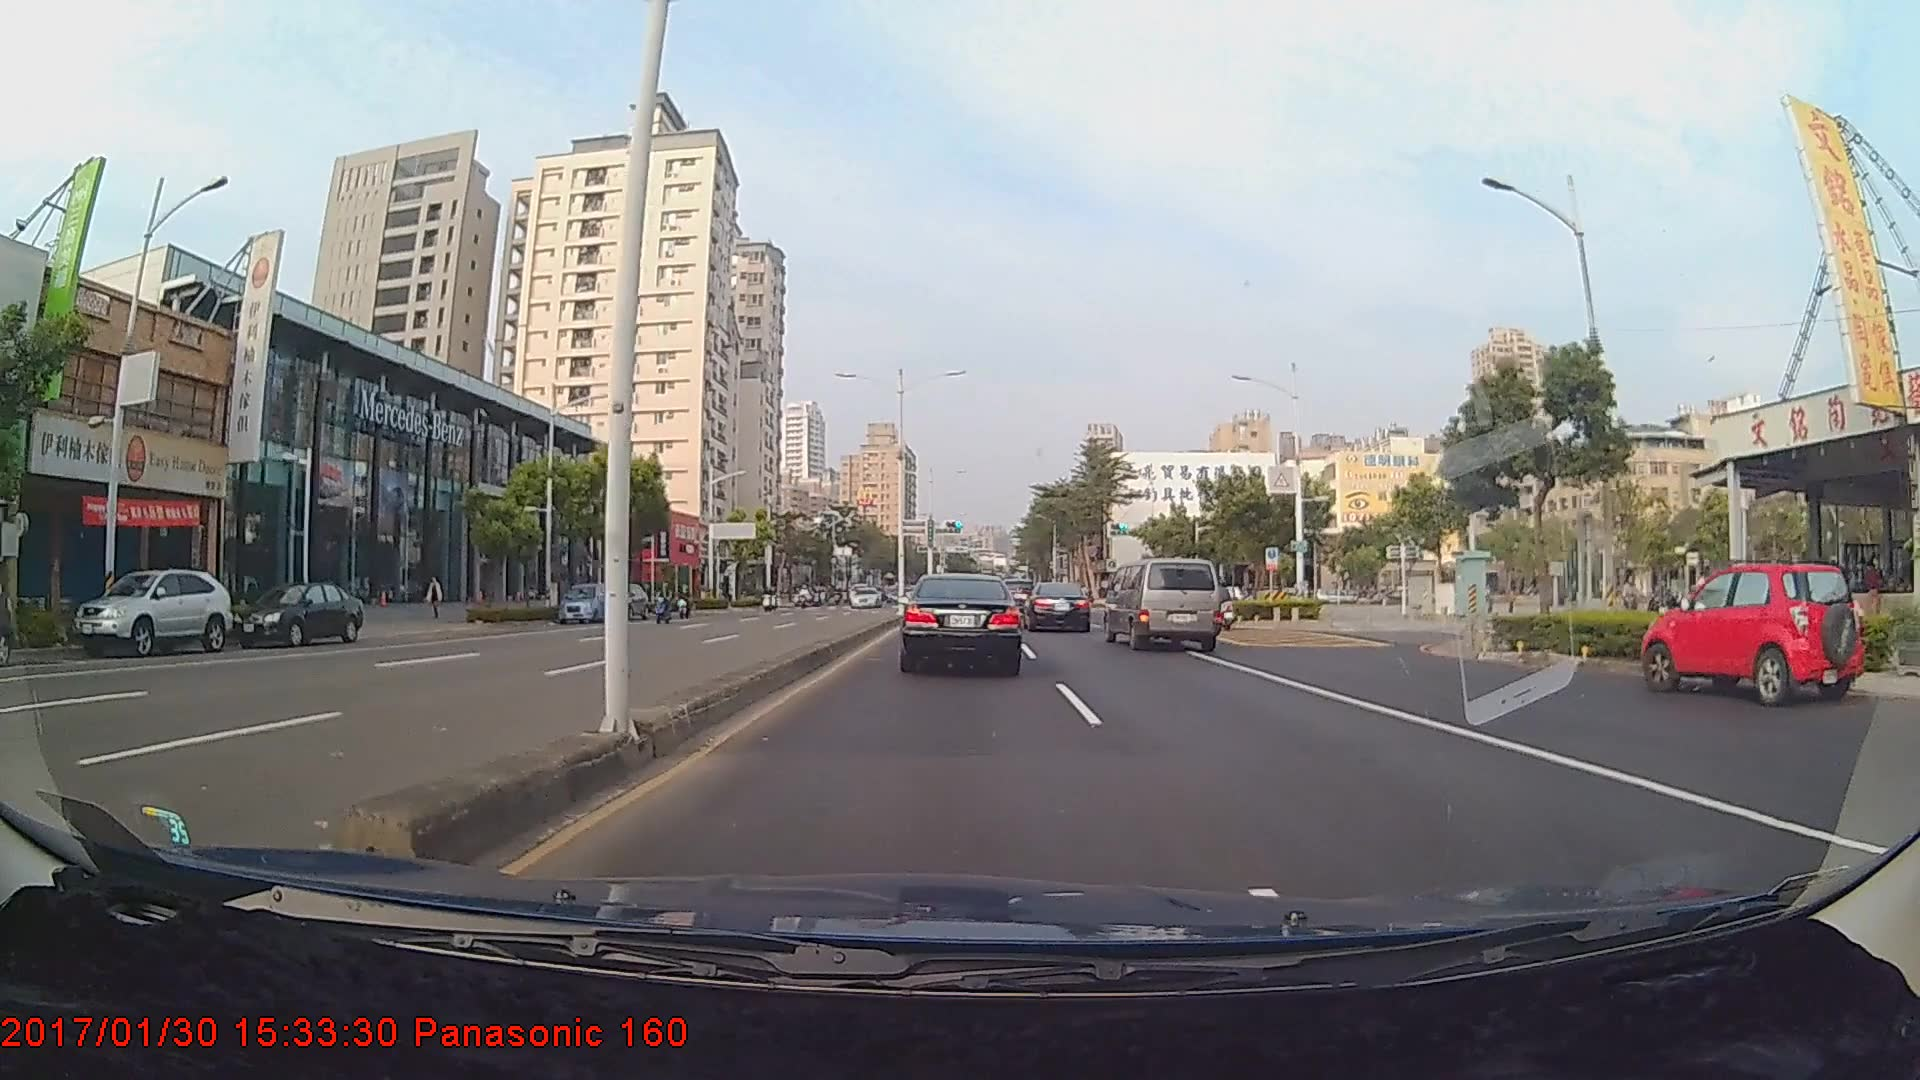pedestrian: (424, 574, 446, 622)
vehicle: (1646, 561, 1859, 705), (70, 565, 229, 656), (901, 572, 1021, 674), (1104, 556, 1221, 650), (231, 579, 365, 646), (1021, 580, 1094, 634), (556, 580, 615, 623), (601, 581, 648, 622), (850, 585, 883, 608)
